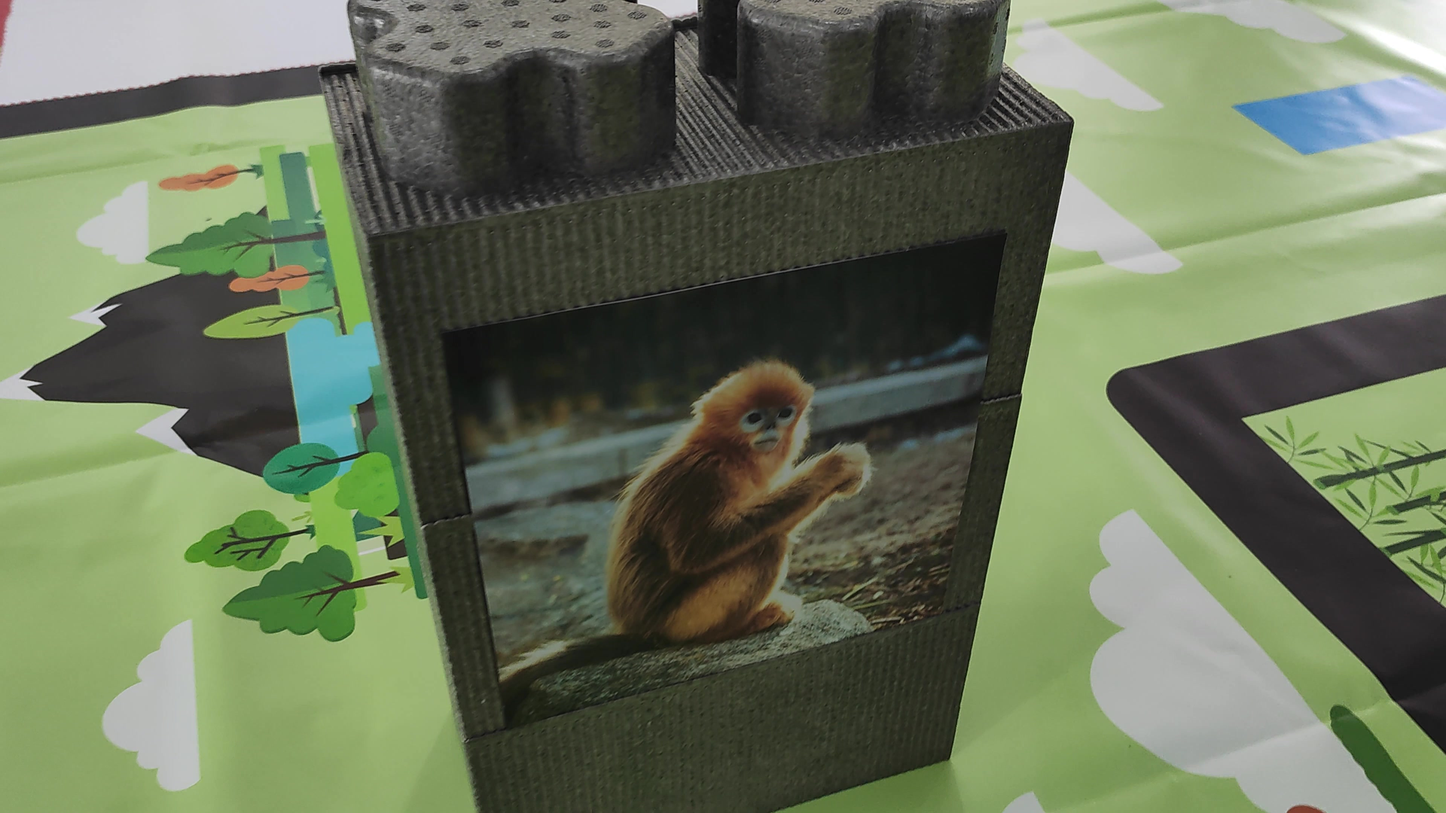monkey: (485, 325, 899, 712)
